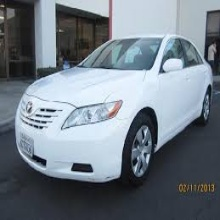no damage: (14, 36, 213, 188)
